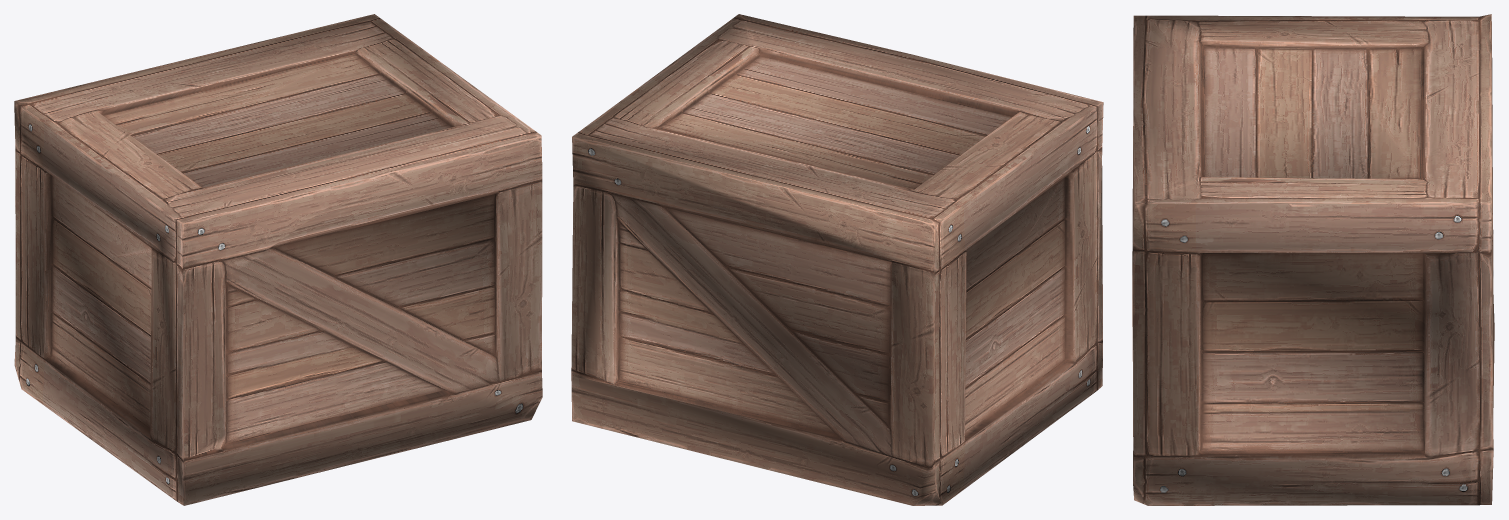
The model's file is Box_Wood_01_LOD2.fbx.
3 views of the same model, side by side, from view 1: azimuth 30°, elevation 25°; view 2: azimuth 150°, elevation 25°; view 3: azimuth 270°, elevation 25° (orthographic). The views are drawn at different scales.
Parts seen in each view (by area): view 1: Box_Wood_01_LOD2; view 2: Box_Wood_01_LOD2; view 3: Box_Wood_01_LOD2.
Boxes of the visible parts, x1,y1,x2,y2 form: Box_Wood_01_LOD2: (14, 14, 542, 505); Box_Wood_01_LOD2: (571, 14, 1103, 505); Box_Wood_01_LOD2: (1132, 14, 1494, 505).
Bounding box in the file's own units: 400 × 300 × 324.
